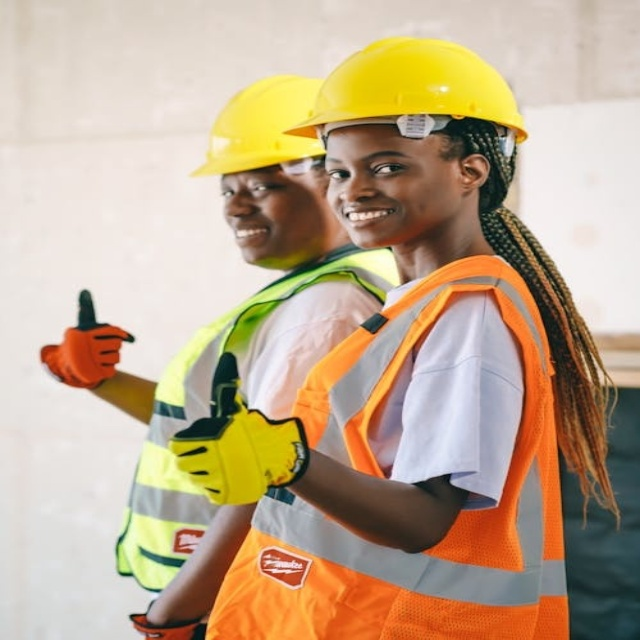Guantes: (164, 345, 334, 514), (26, 283, 140, 388), (119, 603, 206, 639)
Sin_gafas: (321, 144, 429, 184), (221, 169, 283, 202)
Sin_mascara: (334, 203, 419, 236), (228, 218, 287, 250)
